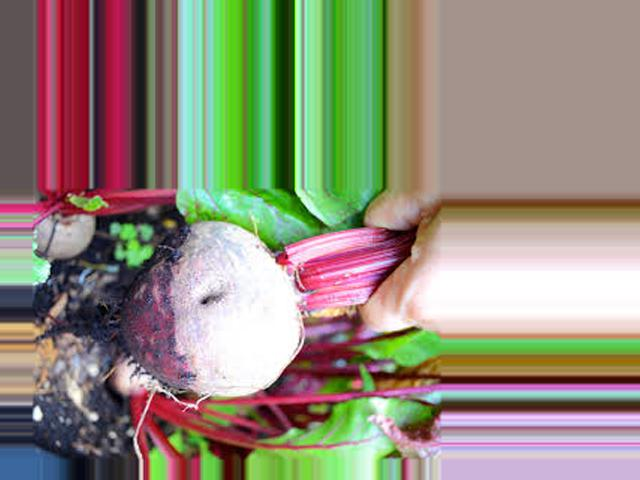beet: (30, 221, 415, 398)
